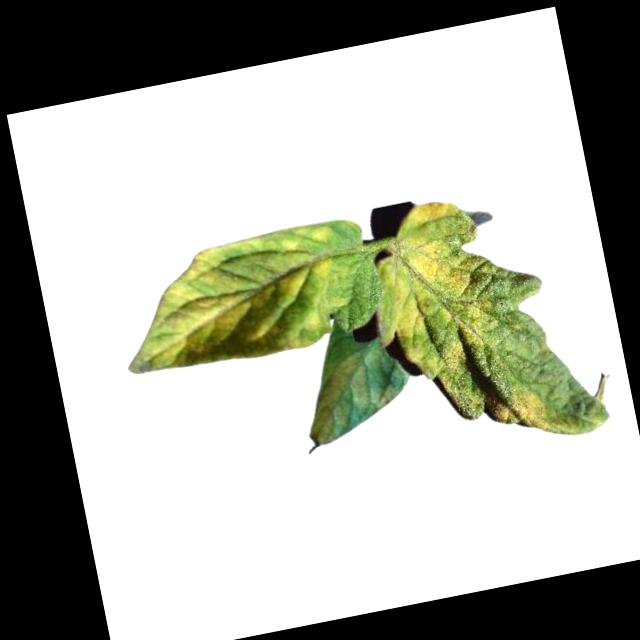Leaf_Mold: (106, 222, 356, 382), (356, 192, 504, 388), (296, 350, 382, 447), (486, 381, 573, 445)
